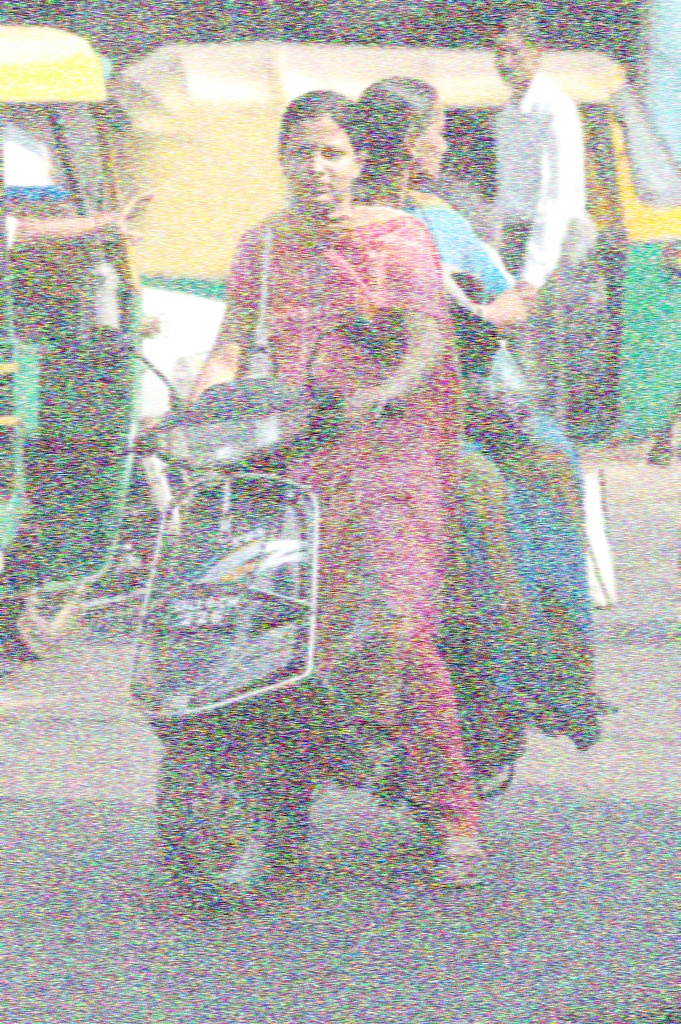Vehicle: (77, 315, 607, 899), (97, 33, 681, 454), (0, 19, 151, 629)
